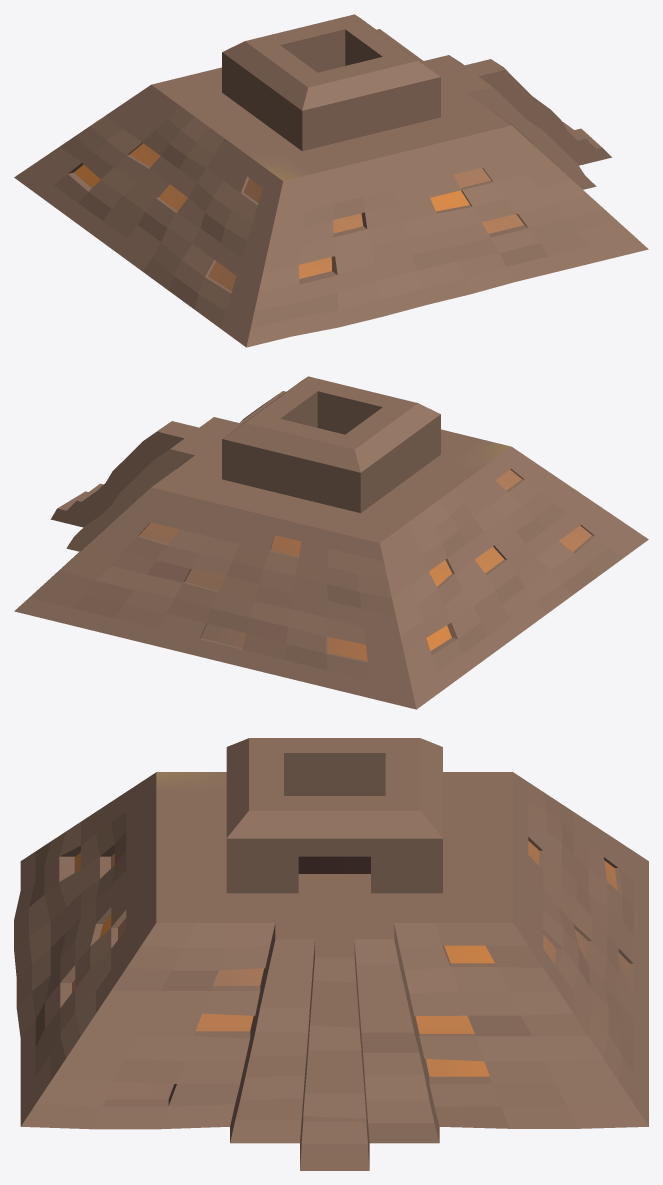
3 renders of one model, top to bottom at view 1: azimuth 30°, elevation 25°; view 2: azimuth 150°, elevation 25°; view 3: azimuth 270°, elevation 25°, orthographic. The views are drawn at different scales.
Visible parts, largest first — view 1: pyramid; view 2: pyramid; view 3: pyramid.
Part boxes in pixels (left/top/right/bottom): pyramid: left=14, top=14, right=648, bottom=347; pyramid: left=14, top=376, right=648, bottom=709; pyramid: left=14, top=738, right=648, bottom=1170.
Size of the model in its own units: 63.96 by 21.16 by 55.44.
Materials: 1 (1 with a texture image).
